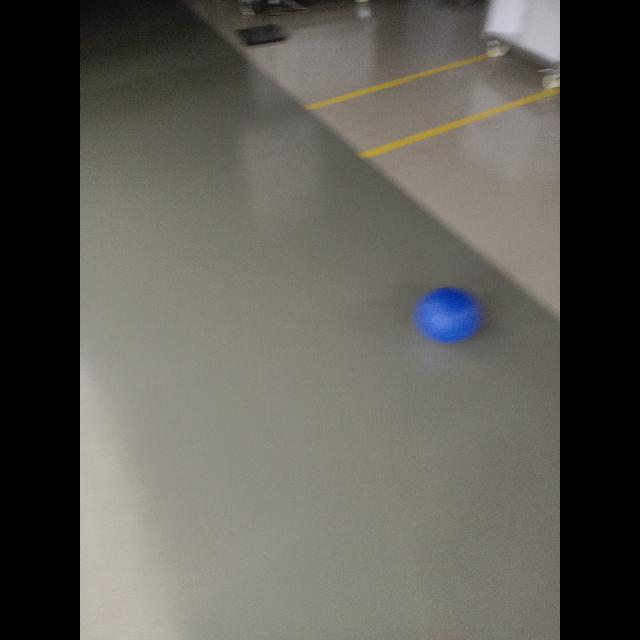B: (414, 286, 480, 344)
